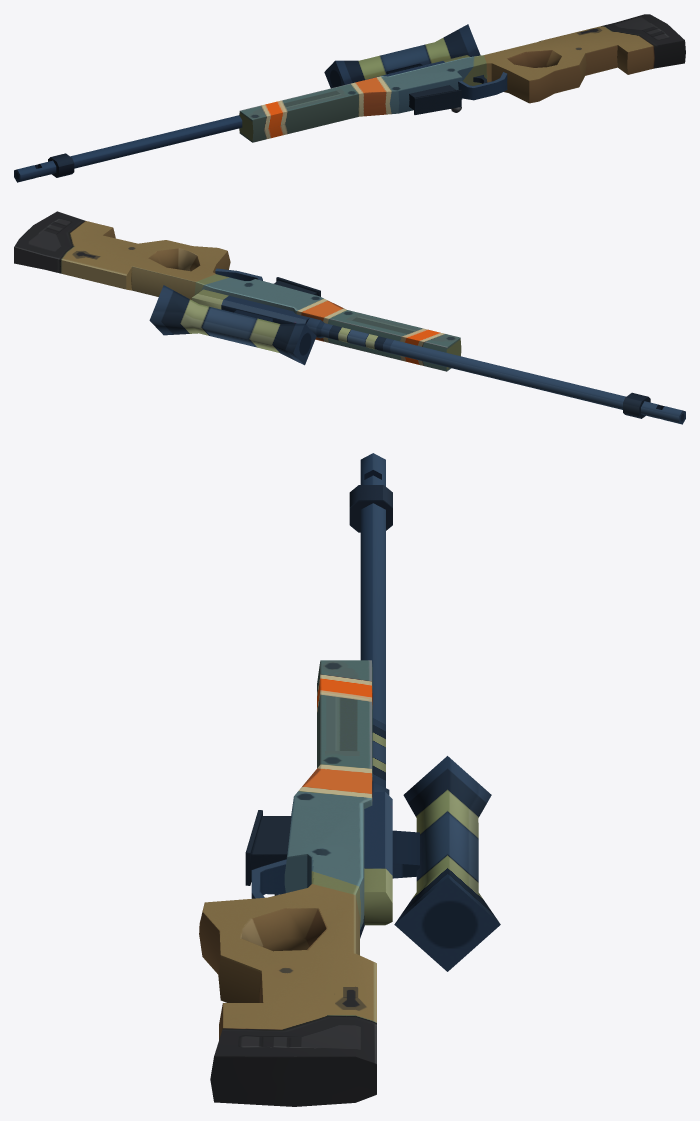
File: weapon_Sniperrifle.FBX
3 views of the same model, one above another, from view 1: azimuth 30°, elevation 25°; view 2: azimuth 150°, elevation 25°; view 3: azimuth 270°, elevation 25° (orthographic). The views are drawn at different scales.
Visible parts, largest first — view 1: weapon_Sniperrifle; view 2: weapon_Sniperrifle; view 3: weapon_Sniperrifle.
Boxes of the visible parts, x1,y1,x2,y2 form: weapon_Sniperrifle: (14,14,685,182); weapon_Sniperrifle: (14,211,685,424); weapon_Sniperrifle: (199,453,500,1106).
Bounding box in the file's own units: 99.25 × 9.28 × 20.56.
